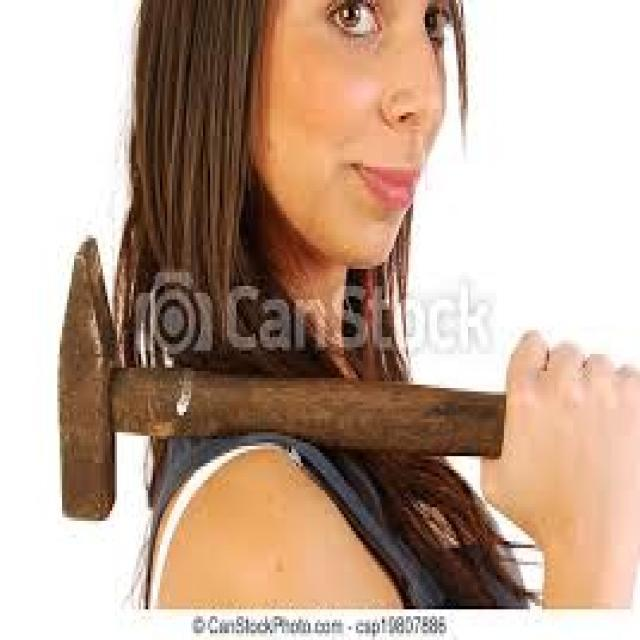hammer: (41, 221, 526, 531)
